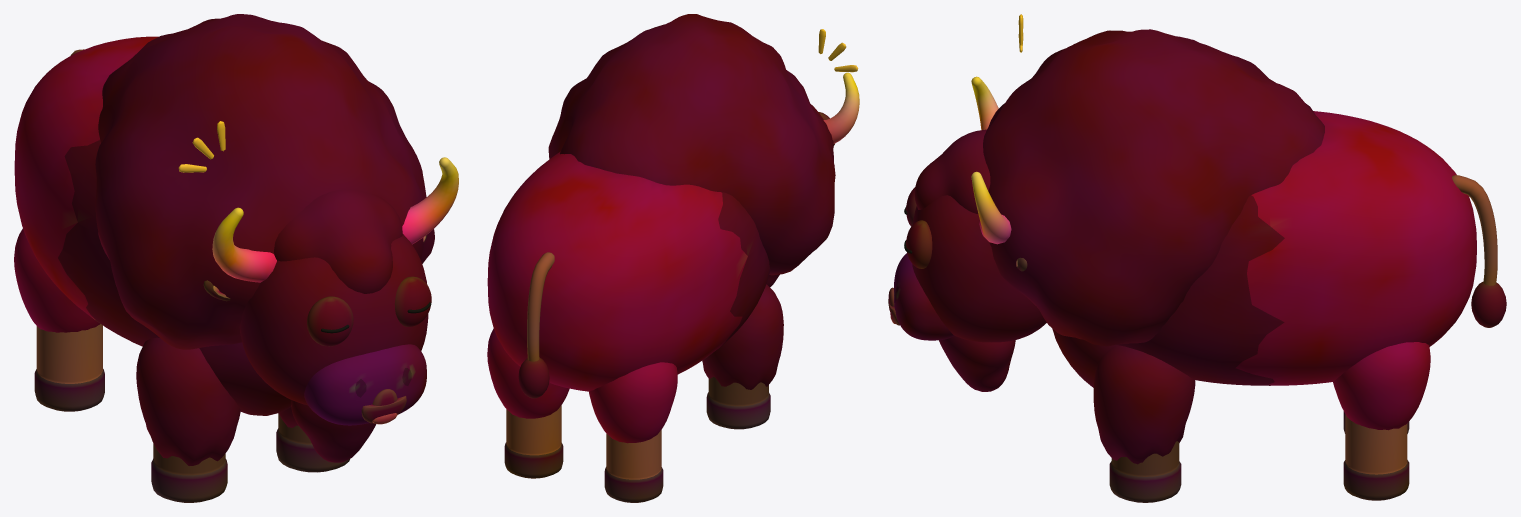
The model's file is Bison.glb.
3 renders of one model, left to right at view 1: azimuth 30°, elevation 25°; view 2: azimuth 150°, elevation 25°; view 3: azimuth 270°, elevation 25°, orthographic. The views are drawn at different scales.
Parts seen in each view (by area): view 1: Body, Head, Leg_FR, Leg_BR, Tuft, Muzzle, Beard, Horn_R, Horn_L, Leg_FL, Blink_R, Blink_L (+2 smaller); view 2: Body, Leg_BR, Leg_FR, Leg_BL, Tail, Horn_R, Fx_Alert; view 3: Body, Leg_FL, Leg_BL, Head, Tuft, Tail, Beard, Muzzle, Horn_L, Blink_L, Horn_R.
Boxes of the visible parts, x1,y1,x2,y2 form: Body: (14,14,434,415); Head: (239,234,428,405); Leg_FR: (136,337,240,502); Leg_BR: (14,228,104,411); Tuft: (274,189,402,293); Muzzle: (304,344,426,425); Beard: (291,400,376,462); Horn_R: (212,207,276,282); Horn_L: (402,157,458,244); Leg_FL: (276,407,349,472); Blink_R: (306,296,353,346); Blink_L: (394,276,431,326); Body: (487,14,835,391); Leg_BR: (589,362,677,502); Leg_FR: (702,284,783,429); Leg_BL: (487,328,569,478); Tail: (518,252,554,398); Horn_R: (823,72,859,143); Fx_Alert: (818,29,858,72); Body: (983,29,1476,387); Leg_FL: (1093,345,1195,502); Leg_BL: (1333,342,1430,500); Head: (912,195,1046,342); Tuft: (914,129,990,213); Tail: (1452,175,1506,327); Beard: (939,335,1015,391); Muzzle: (894,253,953,340); Horn_L: (971,171,1011,244); Blink_L: (904,220,932,268); Horn_R: (971,76,998,130).
Bounding box in the file's own units: 1.09 × 1.58 × 2.09.
